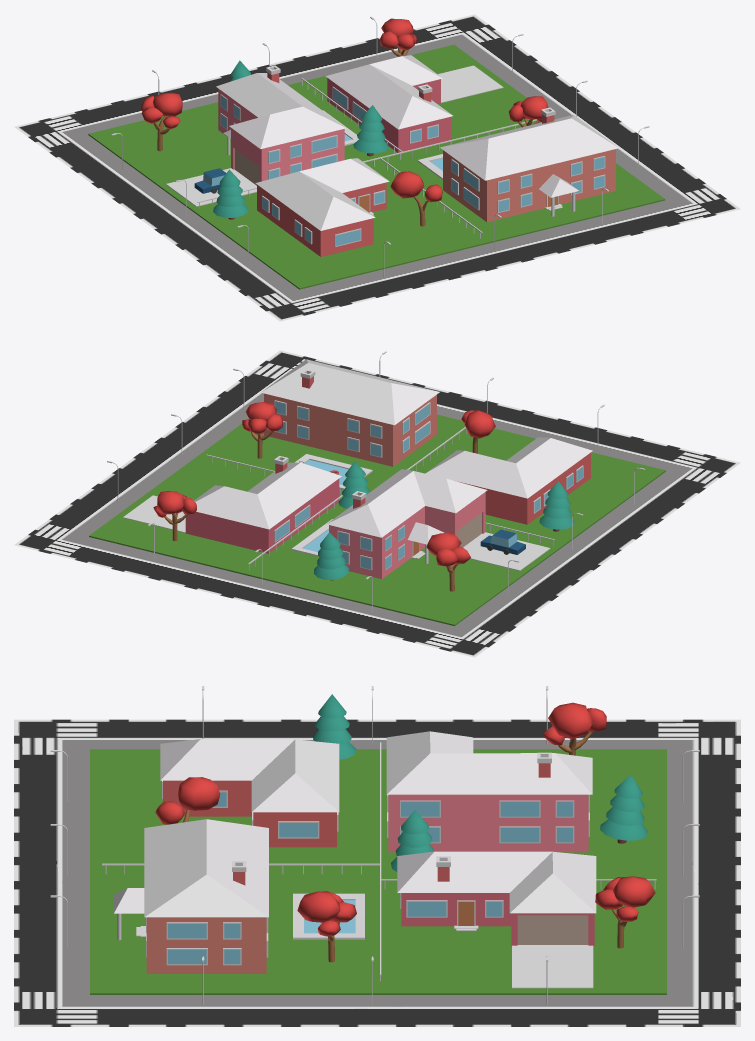
Rendered from ResidentialArea.fbx.
3 views of the same model, one above another, from view 1: azimuth 30°, elevation 25°; view 2: azimuth 150°, elevation 25°; view 3: azimuth 270°, elevation 25° (orthographic). The views are drawn at different scales.
Parts seen in each view (by area): view 1: ResidentialArea; view 2: ResidentialArea; view 3: ResidentialArea.
Part boxes in pixels (x1,y1,x2,y2): ResidentialArea: (14,14,740,321); ResidentialArea: (14,350,740,657); ResidentialArea: (14,686,740,1026).
Size of the model in its own units: 1000 by 144 by 1000.
Materials: 2 (2 with a texture image).
